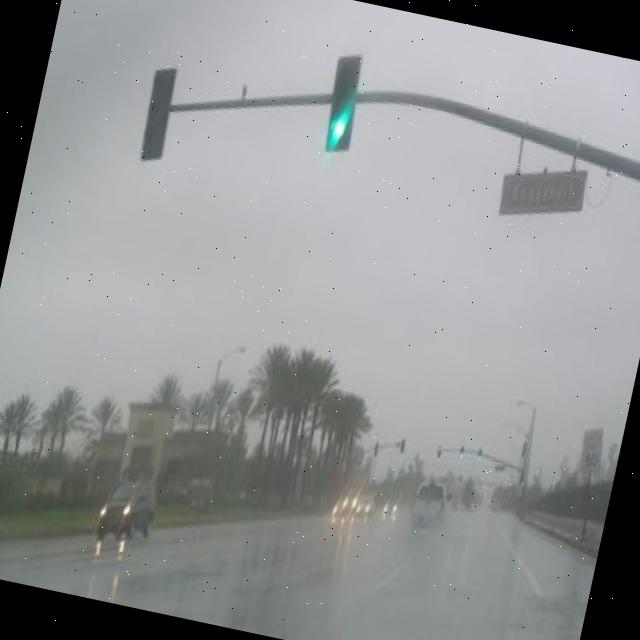car: (94, 473, 161, 548), (405, 476, 450, 536), (352, 490, 374, 520), (381, 492, 402, 520), (342, 491, 358, 516)
